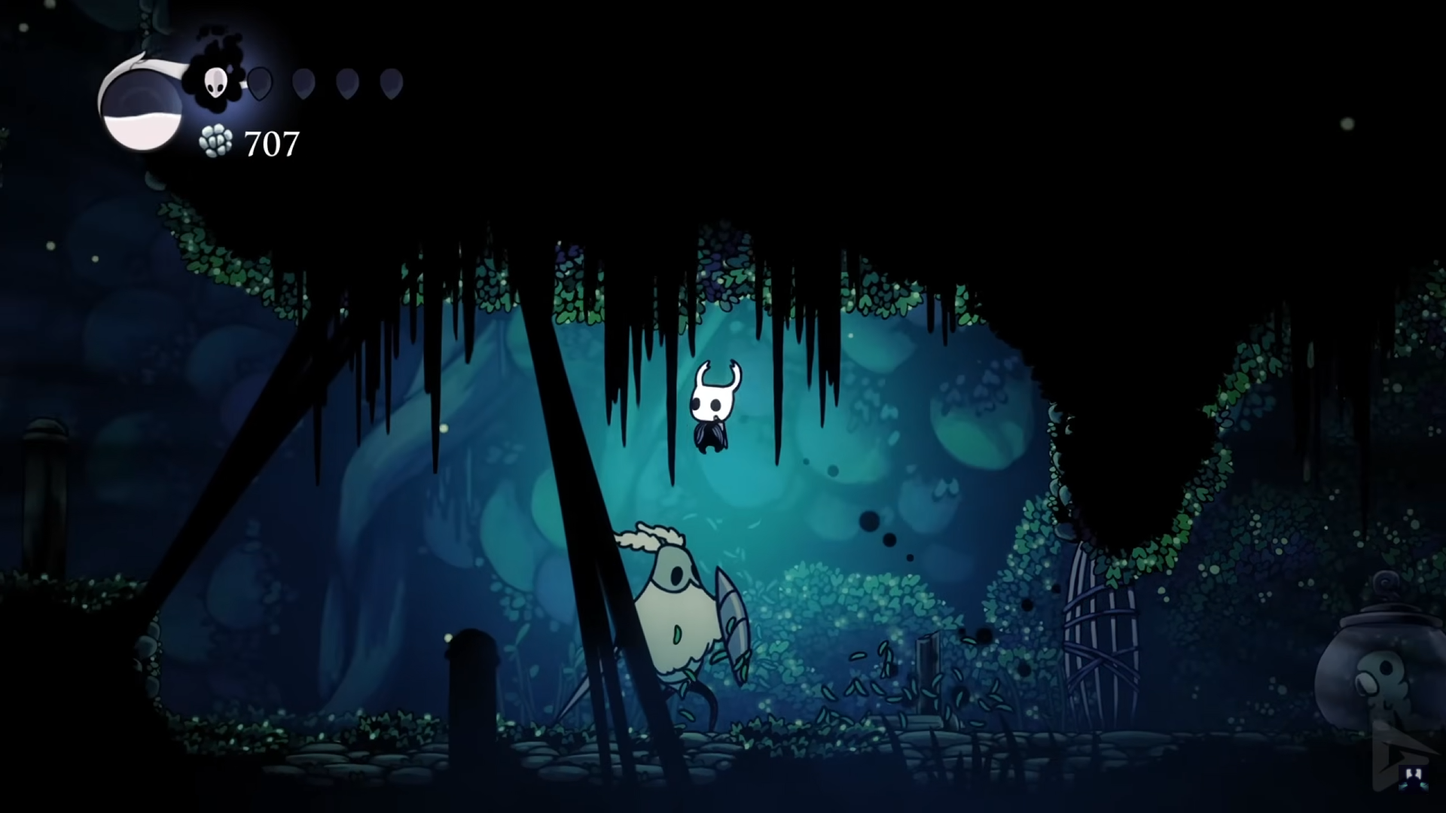HK: (683, 356, 746, 459)
